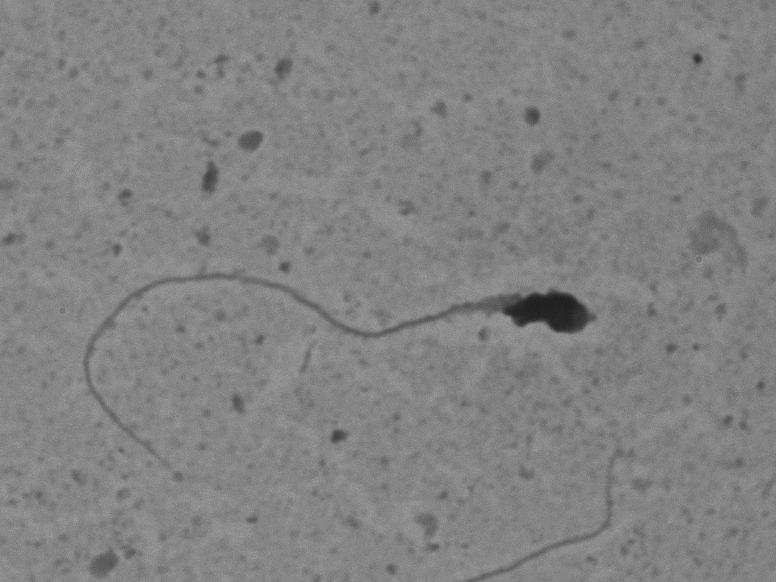Abnormal: (65, 206, 608, 506)
